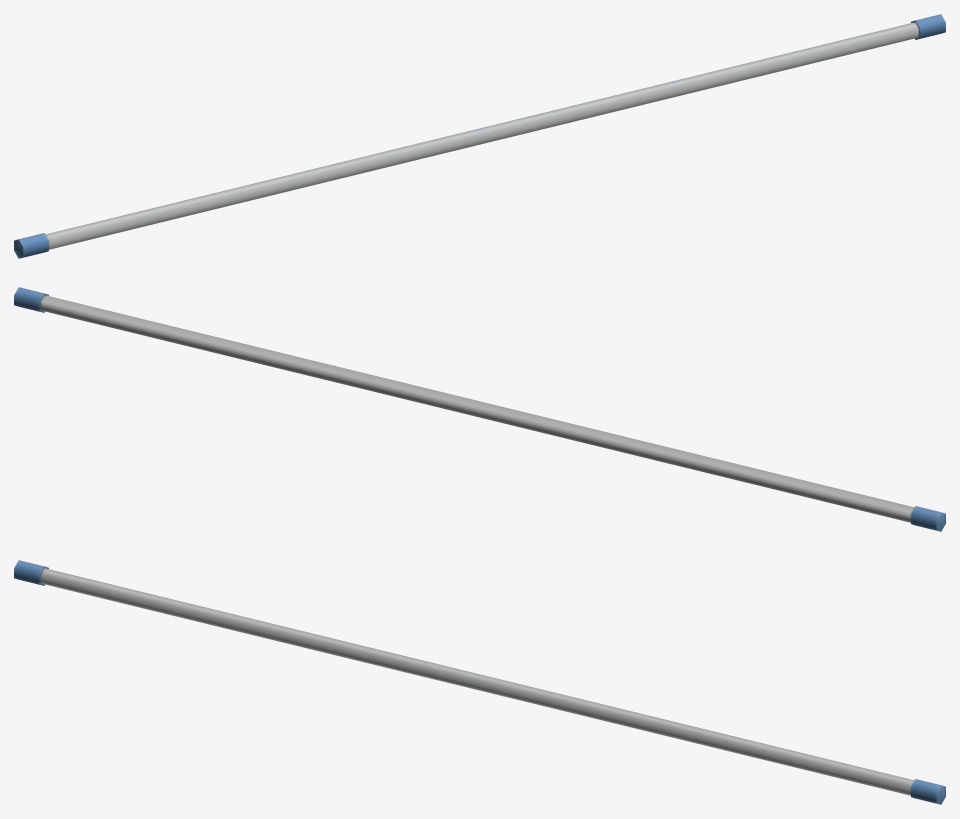
File: jsf_Clothesline_s01.fbx
The picture shows the model from 3 angles, top to bottom: view 1: azimuth 30°, elevation 25°; view 2: azimuth 150°, elevation 25°; view 3: azimuth 330°, elevation 25°; orthographic projection.
Parts seen in each view (by area): view 1: jsf_Clothesline_s01; view 2: jsf_Clothesline_s01; view 3: jsf_Clothesline_s01.
Part boxes in pixels (bbox=[...]): jsf_Clothesline_s01: bbox=[14, 14, 945, 258]; jsf_Clothesline_s01: bbox=[14, 287, 945, 531]; jsf_Clothesline_s01: bbox=[14, 560, 945, 804].
Bounding box in the file's own units: 164 × 3.32 × 2.88.
